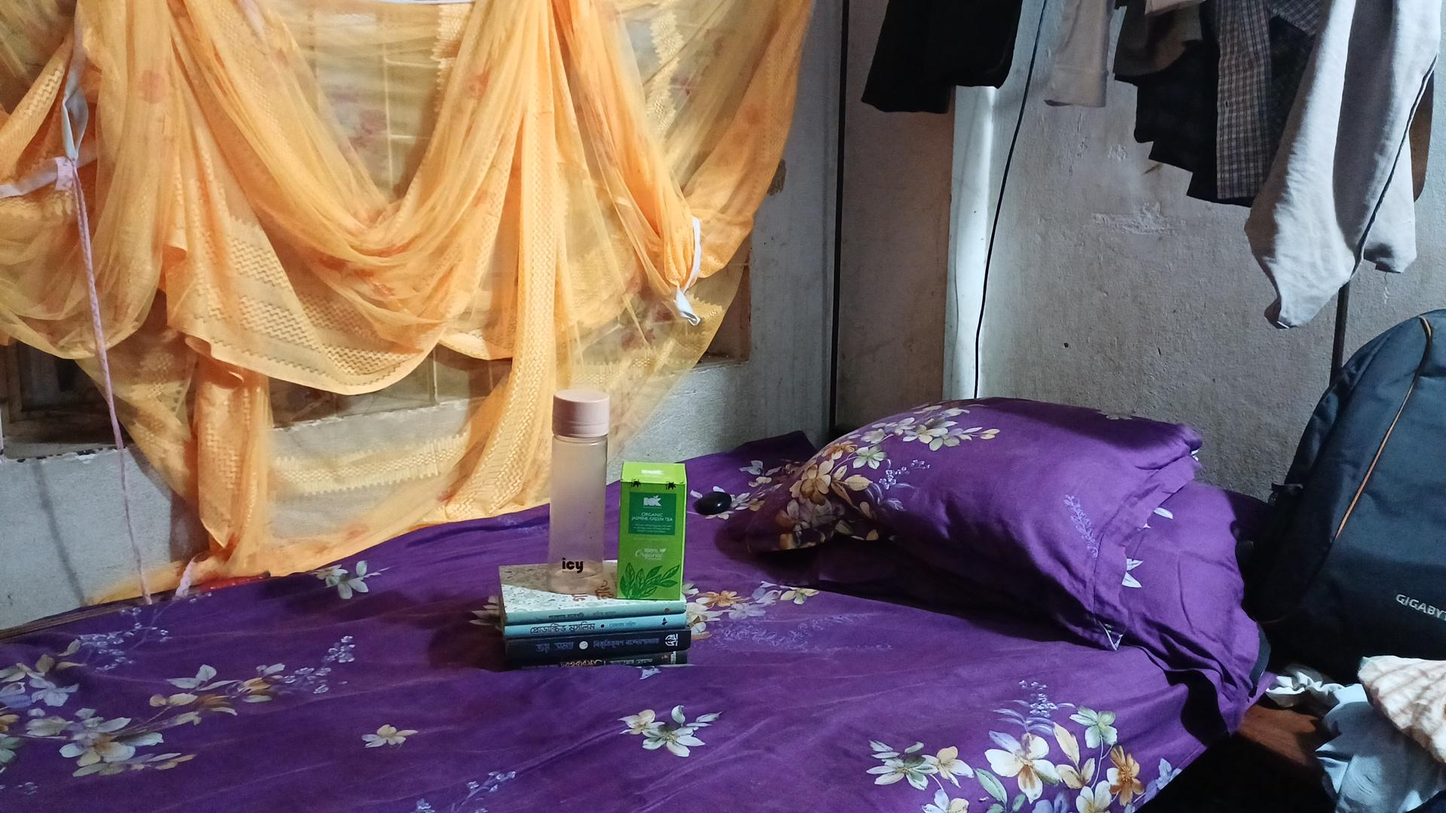Bag: (1289, 322, 1446, 642)
Book: (458, 572, 718, 685)
Bottle: (537, 378, 611, 590)
Box: (608, 448, 692, 598)
Pillow: (779, 354, 1234, 682)
